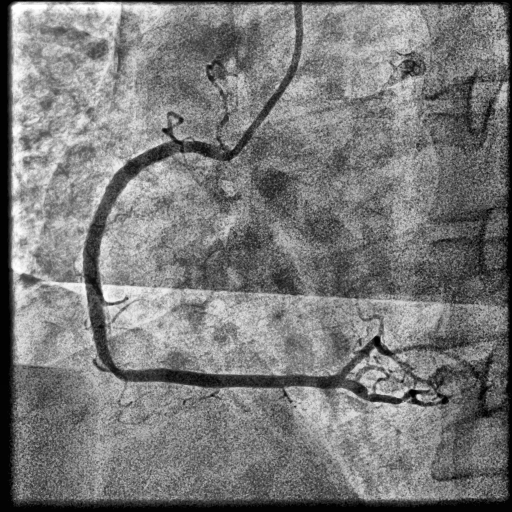pborca: (336, 336, 408, 376)
pda: (343, 377, 456, 406)
rca: (83, 140, 346, 389)
